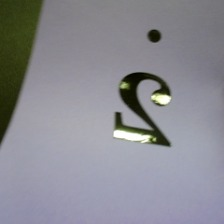violet2: (103, 24, 183, 158)
